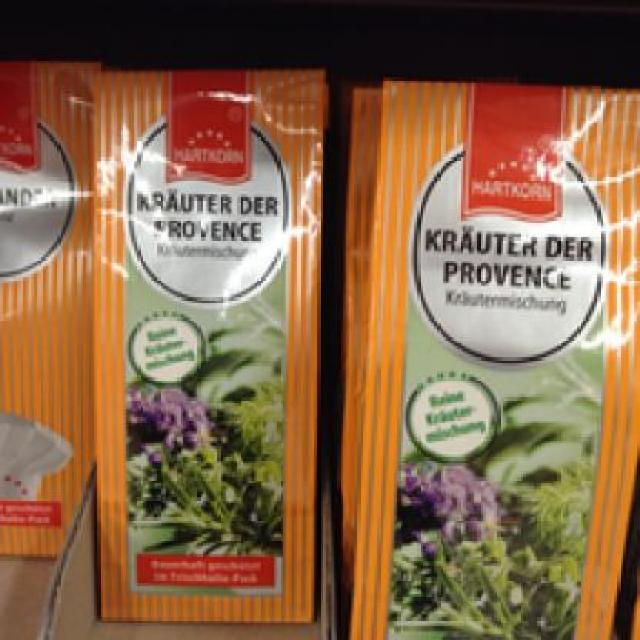Spices: (346, 74, 634, 637), (91, 66, 320, 623)
